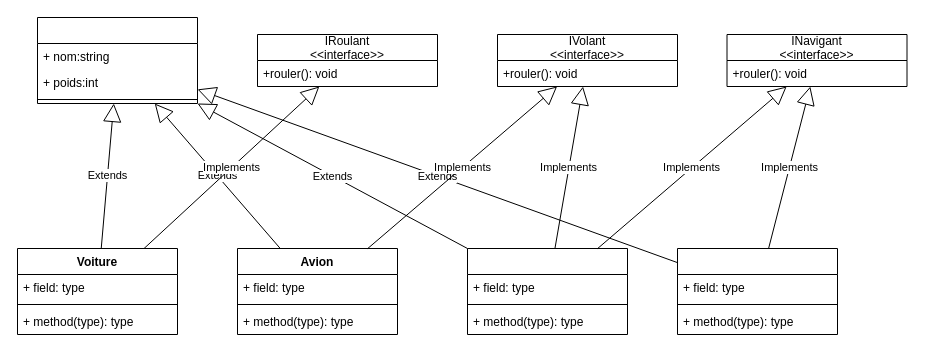
Some shapes in this 925 by 355 pixel diagram are drawn without their labels. The shapes that lost their labels are listed below. From the top down, each one's box as (x1, y1, x2, y2) in pixels, then its label:
(36, 16, 198, 104): Vehicule
(466, 248, 628, 334): Hydravion
(676, 248, 838, 334): Bateau
